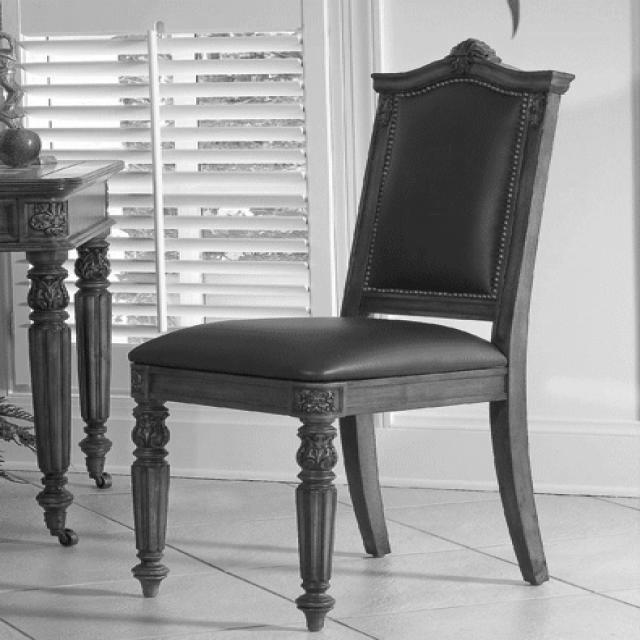chair: (126, 34, 581, 629)
